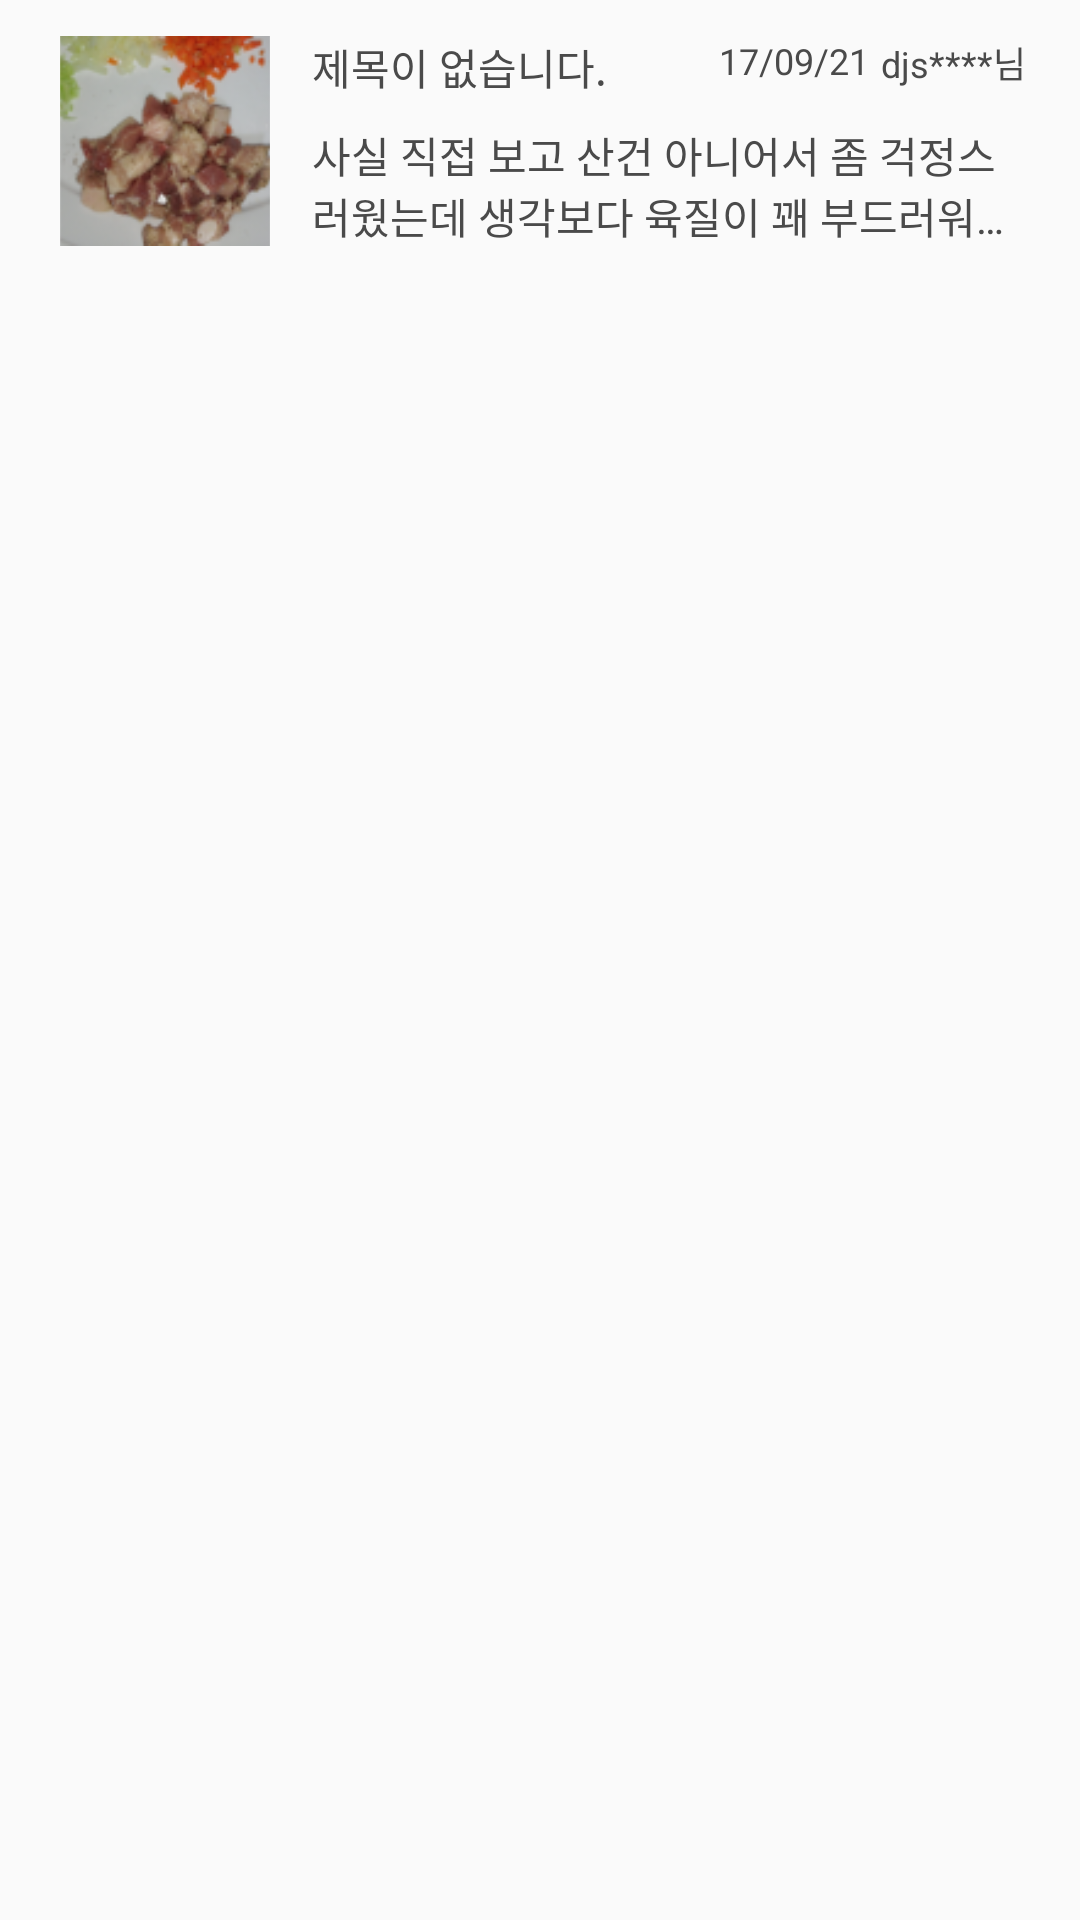

Point at icon controls on the screen. Image size 1080px×1920px, points as (x,y).
tmp thumnail: (165,141)
